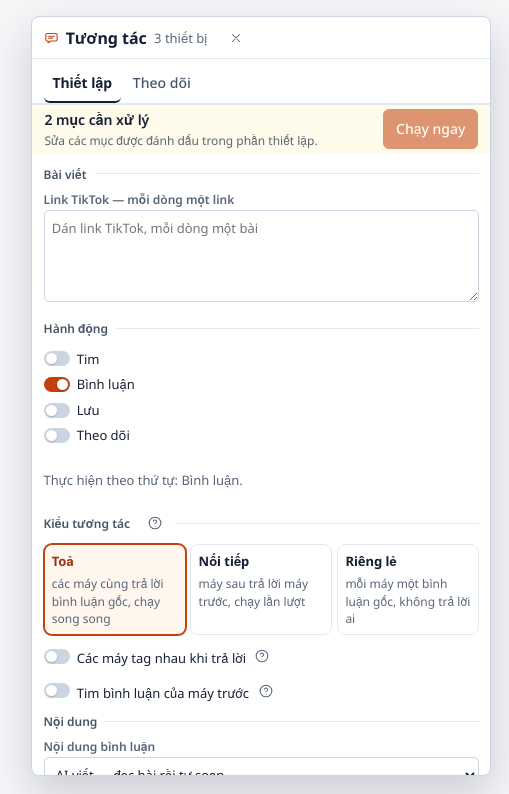
Test: InteractionPopup › warns when more teams are planned than the app can stream at once
This screenshot has width=509, height=794.
Type "https://www.tiktok.com/@creator/video/123" into the text box labelled "Link TikTok — mỗi dòng một link" at [261, 256], box [44,210,479,302]
(page scrolled)
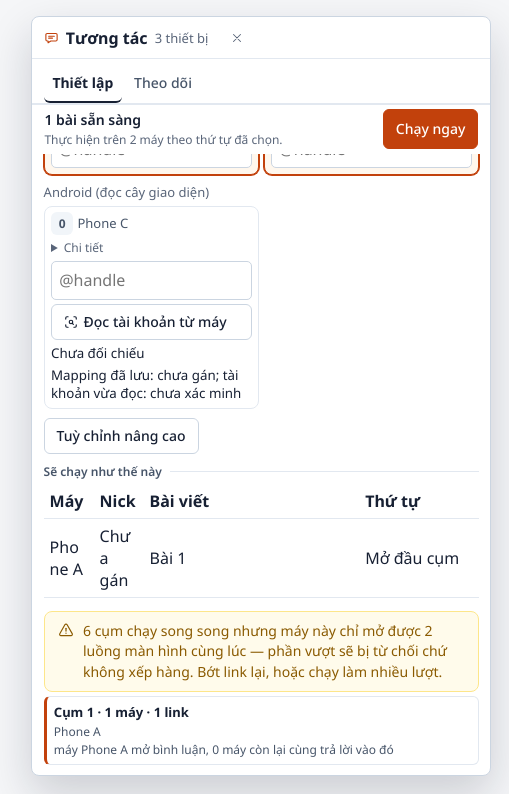
Now the text "chỉ mở được 2 luồng màn hình" is shown, box [83,621,465,682]
